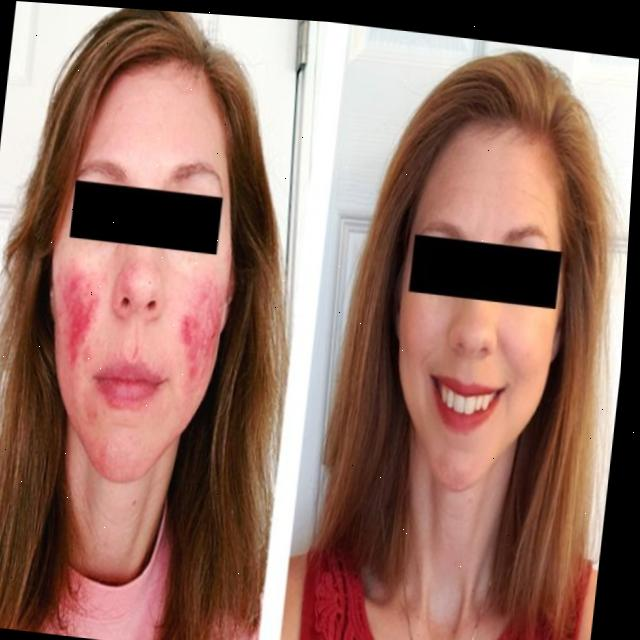Rosacea: (69, 402, 172, 478), (45, 264, 108, 371), (164, 278, 219, 389)
